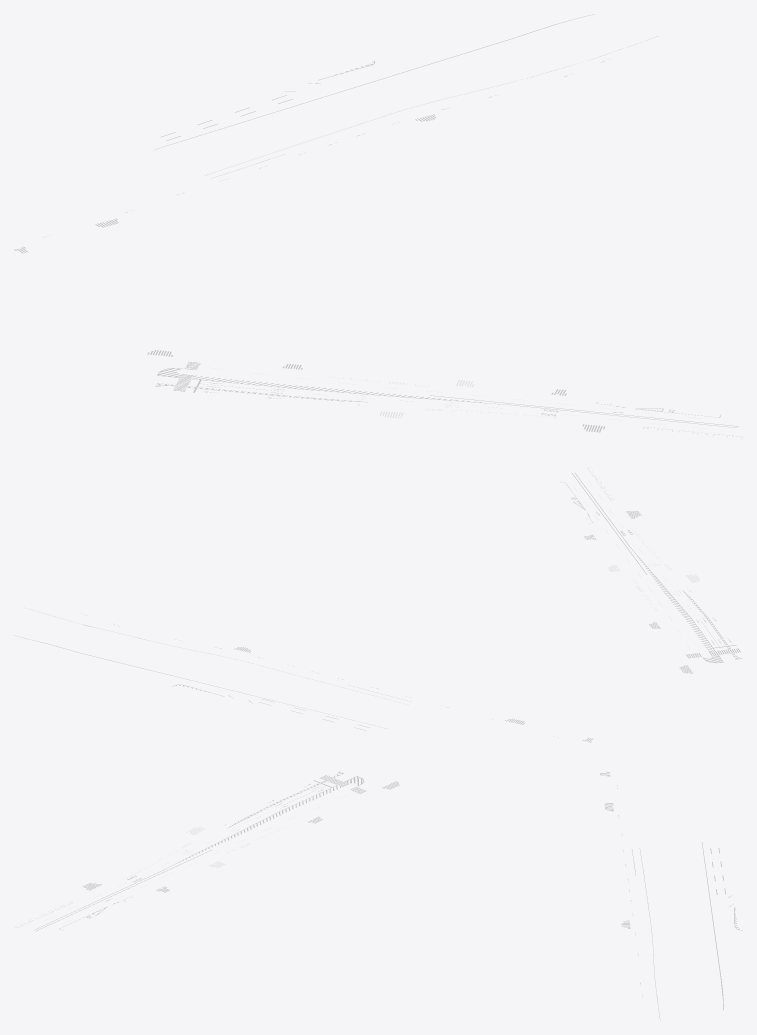
Rendered from furniture_1_0.glb.
The picture shows the model from 3 angles, top to bottom: view 1: azimuth 30°, elevation 25°; view 2: azimuth 150°, elevation 25°; view 3: azimuth 270°, elevation 25°; orthographic projection. The views are drawn at different scales.
Size of the model in its own units: 272 by 13.99 by 300.
Materials: 2 (1 with a texture image).
